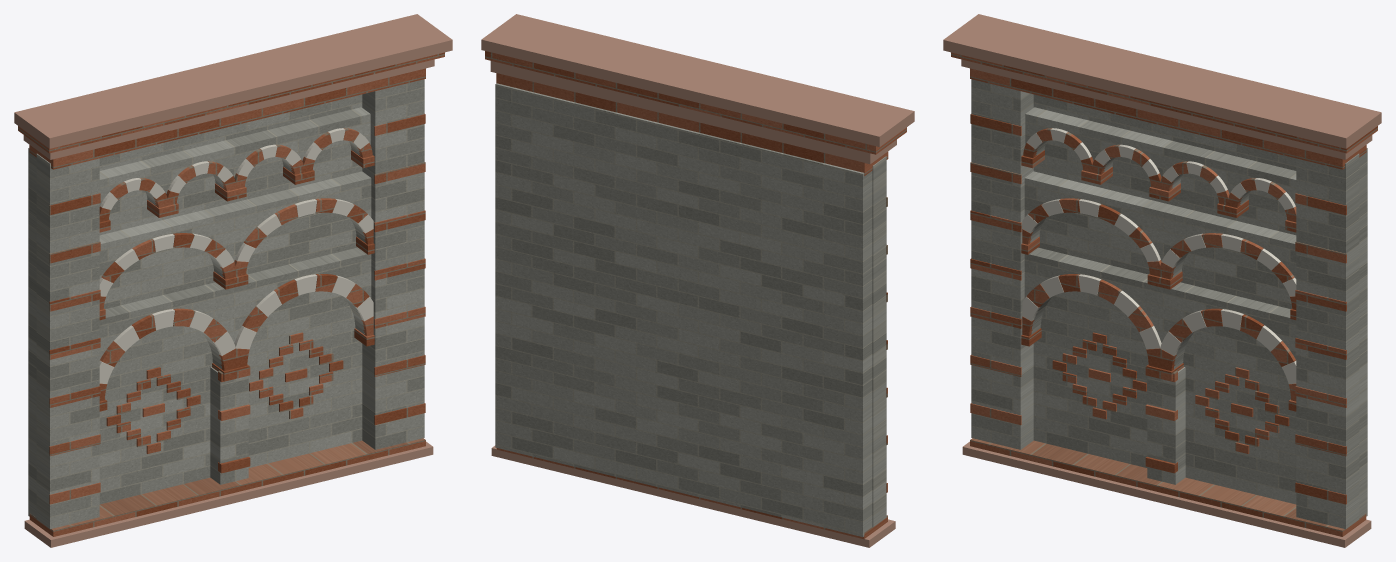
The model's file is zhujiajiao-belfry-brick-lozenges-near.glb.
3 renders of one model, left to right at view 1: azimuth 30°, elevation 25°; view 2: azimuth 150°, elevation 25°; view 3: azimuth 330°, elevation 25°, orthographic.
Parts seen in each view (by area): view 1: 朱家角天主堂钟楼中段双菱形砖花与叠层盲拱; view 2: 朱家角天主堂钟楼中段双菱形砖花与叠层盲拱; view 3: 朱家角天主堂钟楼中段双菱形砖花与叠层盲拱.
Boxes of the visible parts, bbox=[...] form: 朱家角天主堂钟楼中段双菱形砖花与叠层盲拱: bbox=[14, 14, 452, 547]; 朱家角天主堂钟楼中段双菱形砖花与叠层盲拱: bbox=[481, 14, 914, 547]; 朱家角天主堂钟楼中段双菱形砖花与叠层盲拱: bbox=[943, 14, 1381, 547].
Bounding box in the file's own units: 3.51 × 3.48 × 0.554.
Materials: 4 (2 with a texture image).
